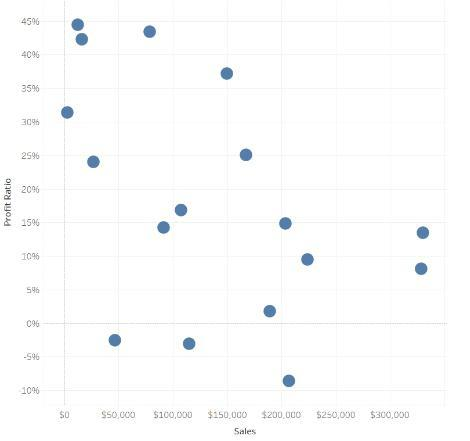axis: (56, 3, 71, 399), (41, 320, 451, 330)
point: (218, 64, 237, 82), (179, 335, 198, 353), (262, 302, 281, 319), (138, 23, 158, 39), (237, 147, 255, 163), (299, 252, 317, 268), (279, 373, 298, 388), (276, 217, 295, 232), (154, 220, 172, 235), (107, 333, 125, 348), (416, 225, 432, 241), (69, 18, 86, 33), (85, 154, 102, 169), (414, 260, 429, 277), (59, 105, 75, 120), (174, 203, 190, 218), (74, 33, 89, 45)
